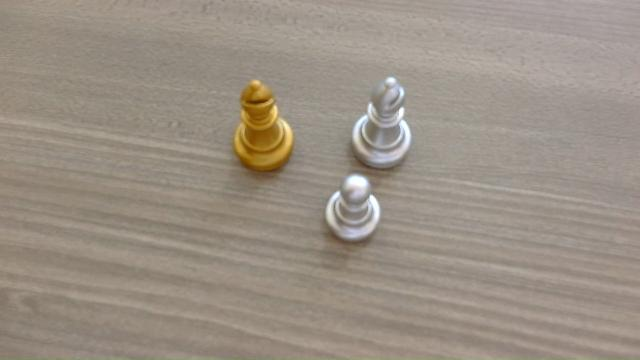black_bishop: (231, 79, 297, 173)
white_bishop: (350, 75, 413, 169)
white_pawn: (326, 173, 382, 242)
